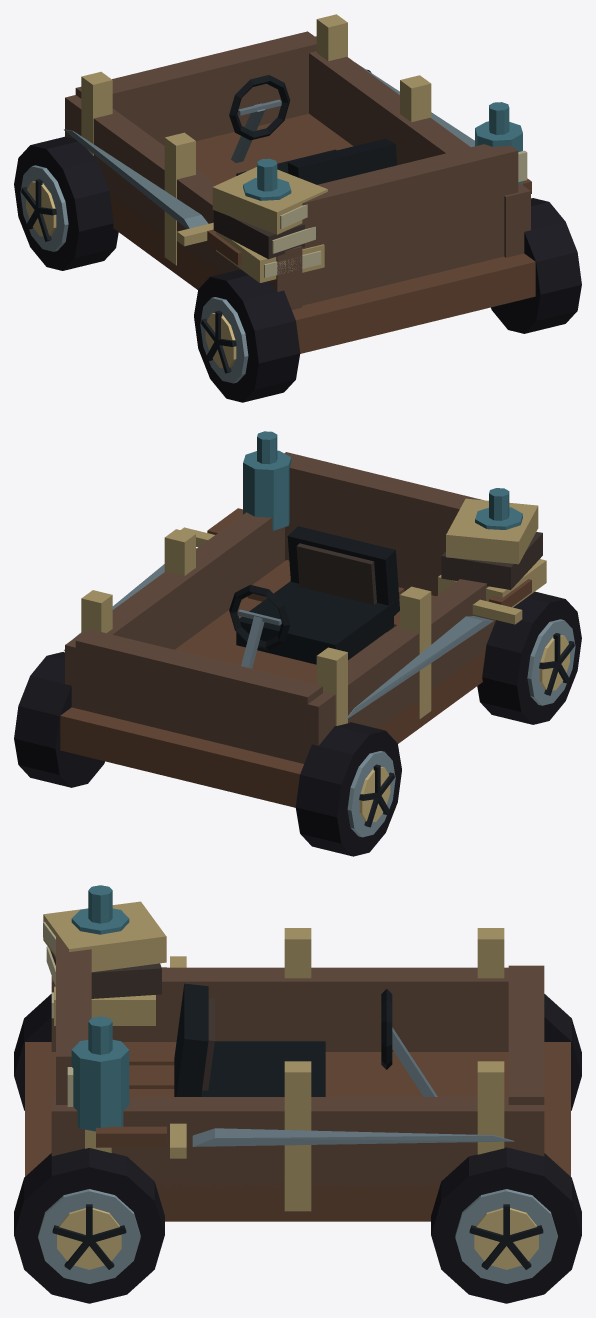
The model's file is kart.glb.
3 views of the same model, one above another, from view 1: azimuth 30°, elevation 25°; view 2: azimuth 150°, elevation 25°; view 3: azimuth 270°, elevation 25° (orthographic). The views are drawn at different scales.
Parts seen in each view (by area): view 1: identity-wagon-wagon-timber-coach, wheel-rear-left, wheel-front-left, identity-wagon-motif-books, wheel-rear-right, identity-wagon-driver-cockpit, identity-wagon-motif-swords, identity-wagon-motif-bottles; view 2: identity-wagon-wagon-timber-coach, identity-wagon-driver-cockpit, wheel-front-left, wheel-rear-left, identity-wagon-motif-books, wheel-front-right, identity-wagon-motif-bottles, identity-wagon-motif-swords; view 3: identity-wagon-wagon-timber-coach, wheel-front-right, wheel-rear-right, identity-wagon-driver-cockpit, identity-wagon-motif-books, identity-wagon-motif-bottles, identity-wagon-motif-swords, wheel-front-left, wheel-rear-left.
Boxes of the visible parts, x1=… form: identity-wagon-wagon-timber-coach: x1=65, y1=14, x2=535, y2=353; wheel-rear-left: x1=194, y1=269, x2=300, y2=402; wheel-front-left: x1=14, y1=136, x2=118, y2=270; identity-wagon-motif-books: x1=212, y1=167, x2=327, y2=282; wheel-rear-right: x1=491, y1=198, x2=581, y2=333; identity-wagon-driver-cockpit: x1=229, y1=75, x2=397, y2=184; identity-wagon-motif-swords: x1=64, y1=63, x2=531, y2=265; identity-wagon-motif-bottles: x1=243, y1=102, x2=527, y2=200; identity-wagon-wagon-timber-coach: x1=60, y1=452, x2=495, y2=807; identity-wagon-driver-cockpit: x1=229, y1=526, x2=399, y2=668; wheel-front-left: x1=295, y1=722, x2=401, y2=856; wheel-rear-left: x1=477, y1=591, x2=581, y2=724; identity-wagon-motif-books: x1=438, y1=498, x2=546, y2=607; wheel-front-right: x1=14, y1=652, x2=104, y2=787; identity-wagon-motif-bottles: x1=243, y1=431, x2=522, y2=530; identity-wagon-motif-swords: x1=64, y1=508, x2=531, y2=719; identity-wagon-wagon-timber-coach: x1=25, y1=928, x2=570, y2=1221; wheel-front-right: x1=431, y1=1147, x2=581, y2=1303; wheel-rear-right: x1=14, y1=1148, x2=164, y2=1303; identity-wagon-driver-cockpit: x1=174, y1=983, x2=437, y2=1096; identity-wagon-motif-books: x1=43, y1=901, x2=166, y2=1025; identity-wagon-motif-bottles: x1=67, y1=885, x2=129, y2=1131; identity-wagon-motif-swords: x1=96, y1=956, x2=514, y2=1158; wheel-front-left: x1=544, y1=994, x2=581, y2=1110; wheel-rear-left: x1=14, y1=994, x2=51, y2=1110.
Bounding box in the file's own units: 2.07 × 1.27 × 2.56.
